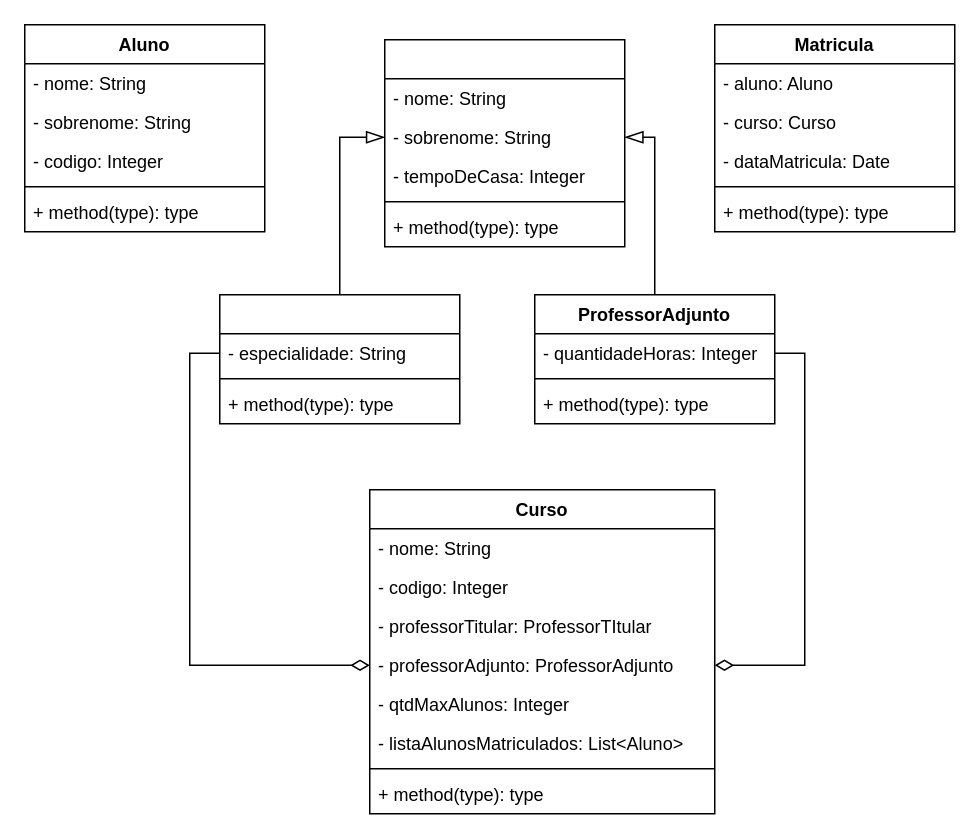
This 980x839 diagram has some shape labels left out. The box of each missing label's shape, as (x1, y1, x2, y2) in pixels:
Professor: (383, 38, 625, 247)
ProfessorTitular: (218, 293, 460, 424)
